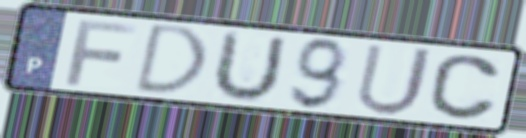9: (288, 35, 354, 113)
C: (425, 52, 504, 123)
D: (130, 21, 211, 96)
F: (62, 16, 141, 88)
U: (352, 41, 437, 118), (206, 28, 290, 104)
